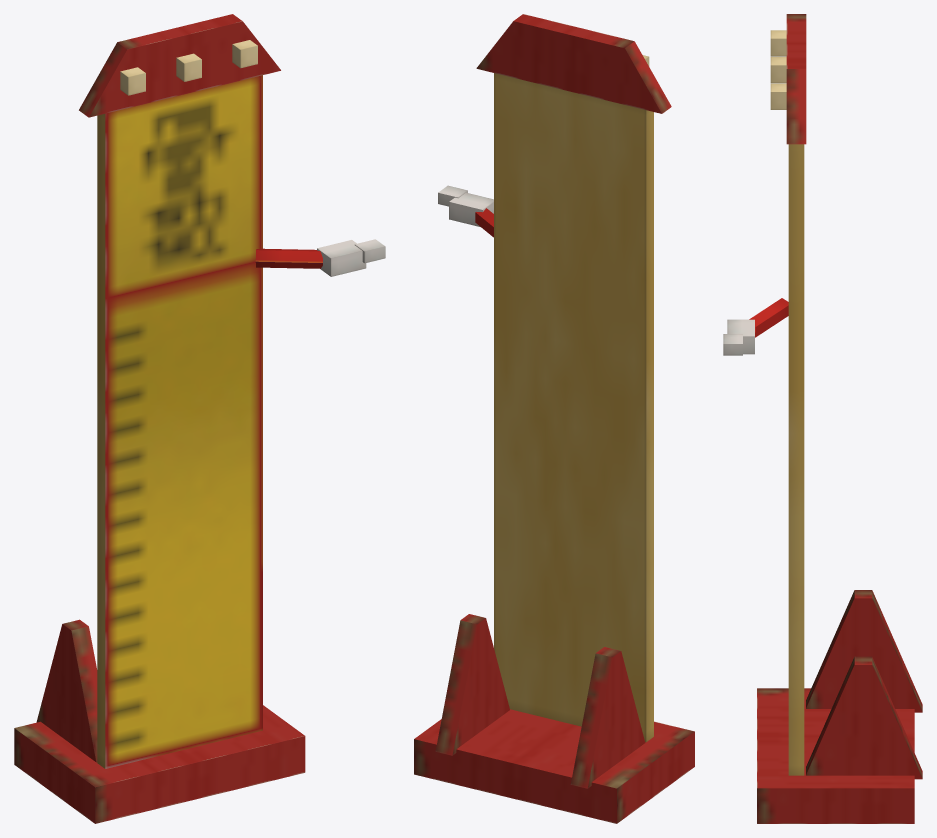
The model's file is sign_height.obj.
3 renders of one model, left to right at view 1: azimuth 30°, elevation 25°; view 2: azimuth 150°, elevation 25°; view 3: azimuth 270°, elevation 25°, orthographic. The views are drawn at different scales.
Visible parts, largest first — view 1: sign_height; view 2: sign_height; view 3: sign_height.
Part boxes in pixels (x1=…): sign_height: x1=14, y1=14, x2=385, y2=823; sign_height: x1=414, y1=14, x2=694, y2=823; sign_height: x1=723, y1=14, x2=922, y2=823.
Bounding box in the file's own units: 0.78 × 2.05 × 0.505.
1 material, 1 textured.
